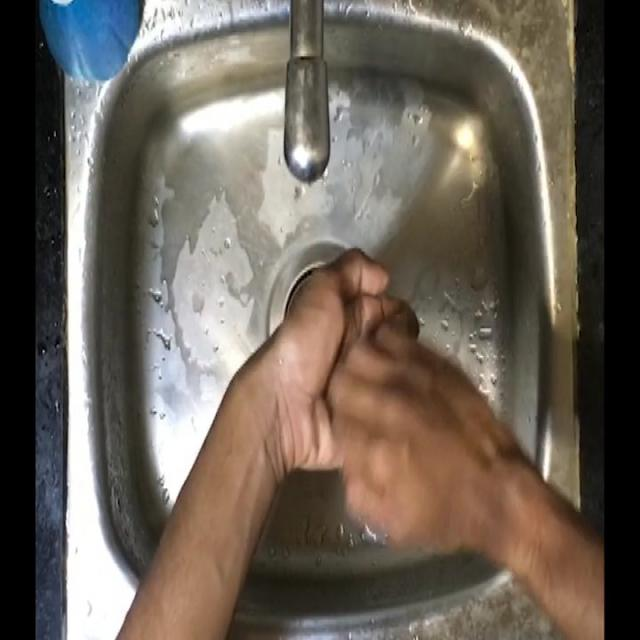step_4: (270, 235, 482, 555)
